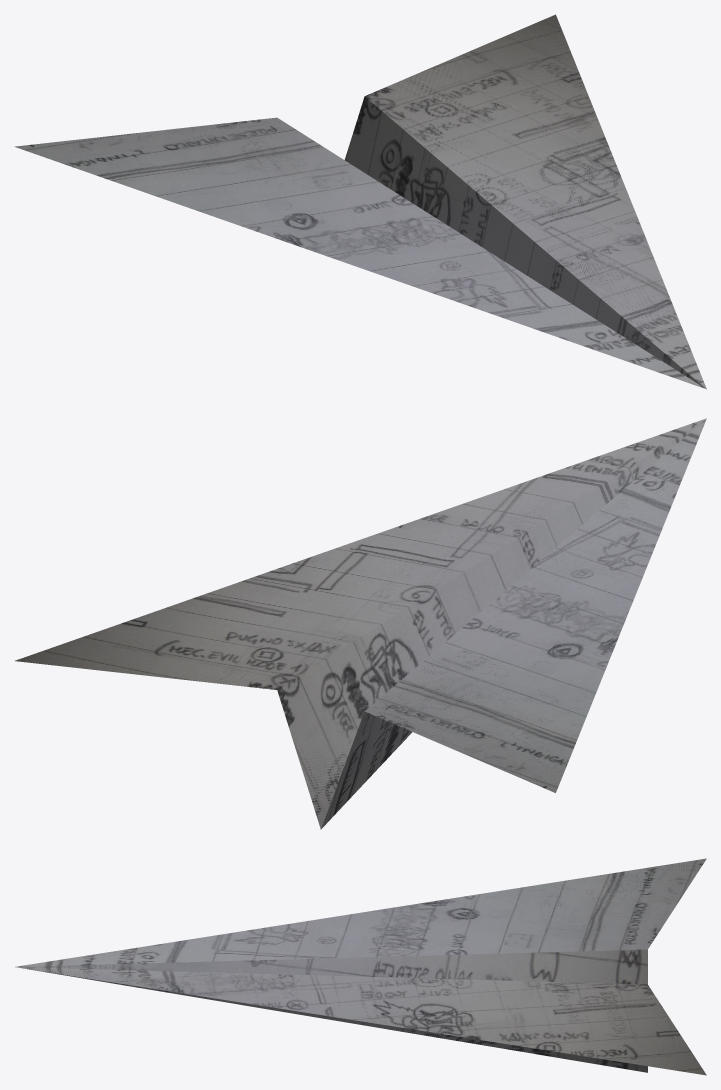
Rendered from paperplane-rescaled.FBX.
The picture shows the model from 3 angles, top to bottom: view 1: azimuth 30°, elevation 25°; view 2: azimuth 150°, elevation 25°; view 3: azimuth 270°, elevation 25°; orthographic projection. The views are drawn at different scales.
Visible parts, largest first — view 1: PaperPlane; view 2: PaperPlane; view 3: PaperPlane.
Part boxes in pixels (x1,y1,x2,y2): PaperPlane: (14,14,706,389); PaperPlane: (15,418,706,829); PaperPlane: (15,858,706,1075).
Bounding box in the file's own units: 0.1912 × 0.0435 × 0.2579.
Materials: 1 (1 with a texture image).
